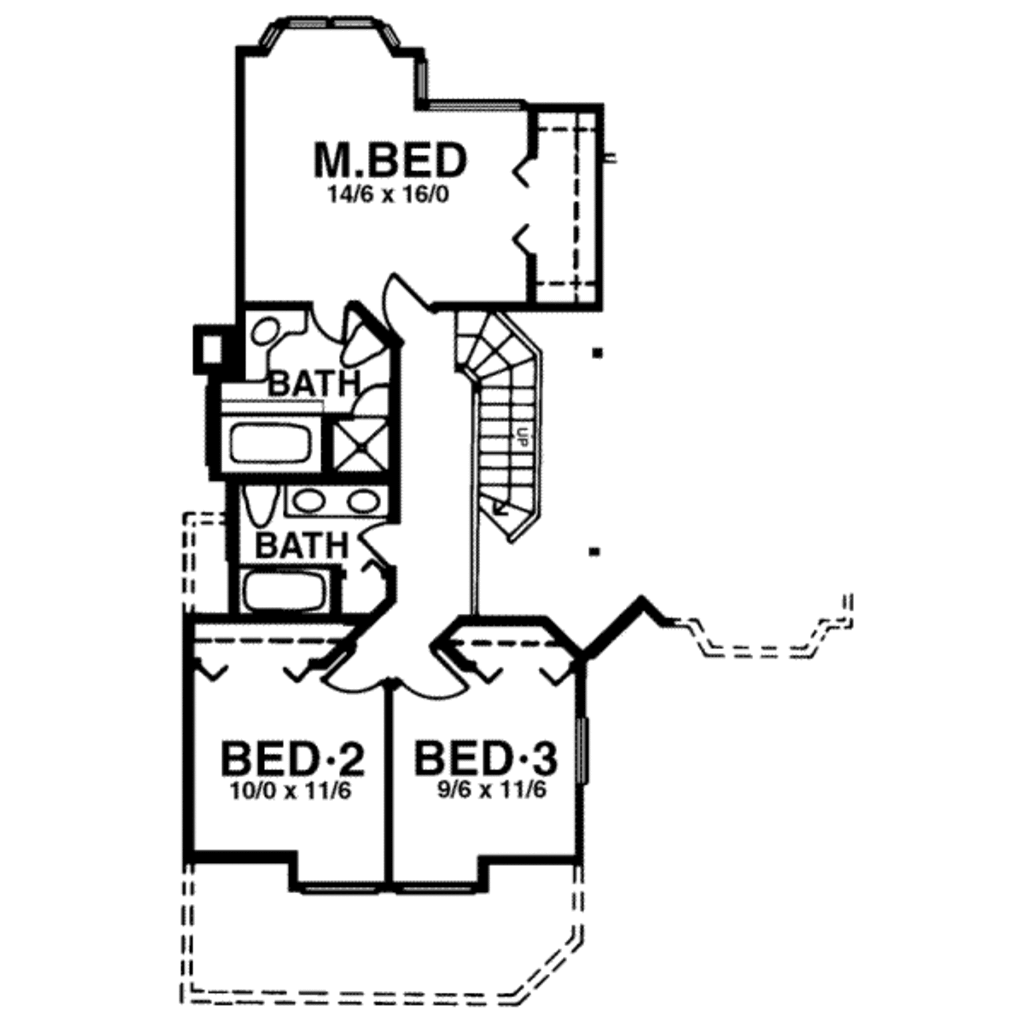door: (397, 646, 478, 713), (361, 271, 438, 341), (322, 653, 395, 703), (305, 302, 353, 346)
large_sink: (334, 314, 398, 377), (234, 480, 289, 535)
small_sink: (244, 307, 305, 380), (281, 485, 389, 517)
stairs: (434, 310, 558, 553)
tub: (211, 411, 316, 471), (233, 560, 334, 614)
window: (431, 94, 527, 122), (294, 872, 391, 897), (570, 714, 591, 792), (397, 874, 469, 896)
